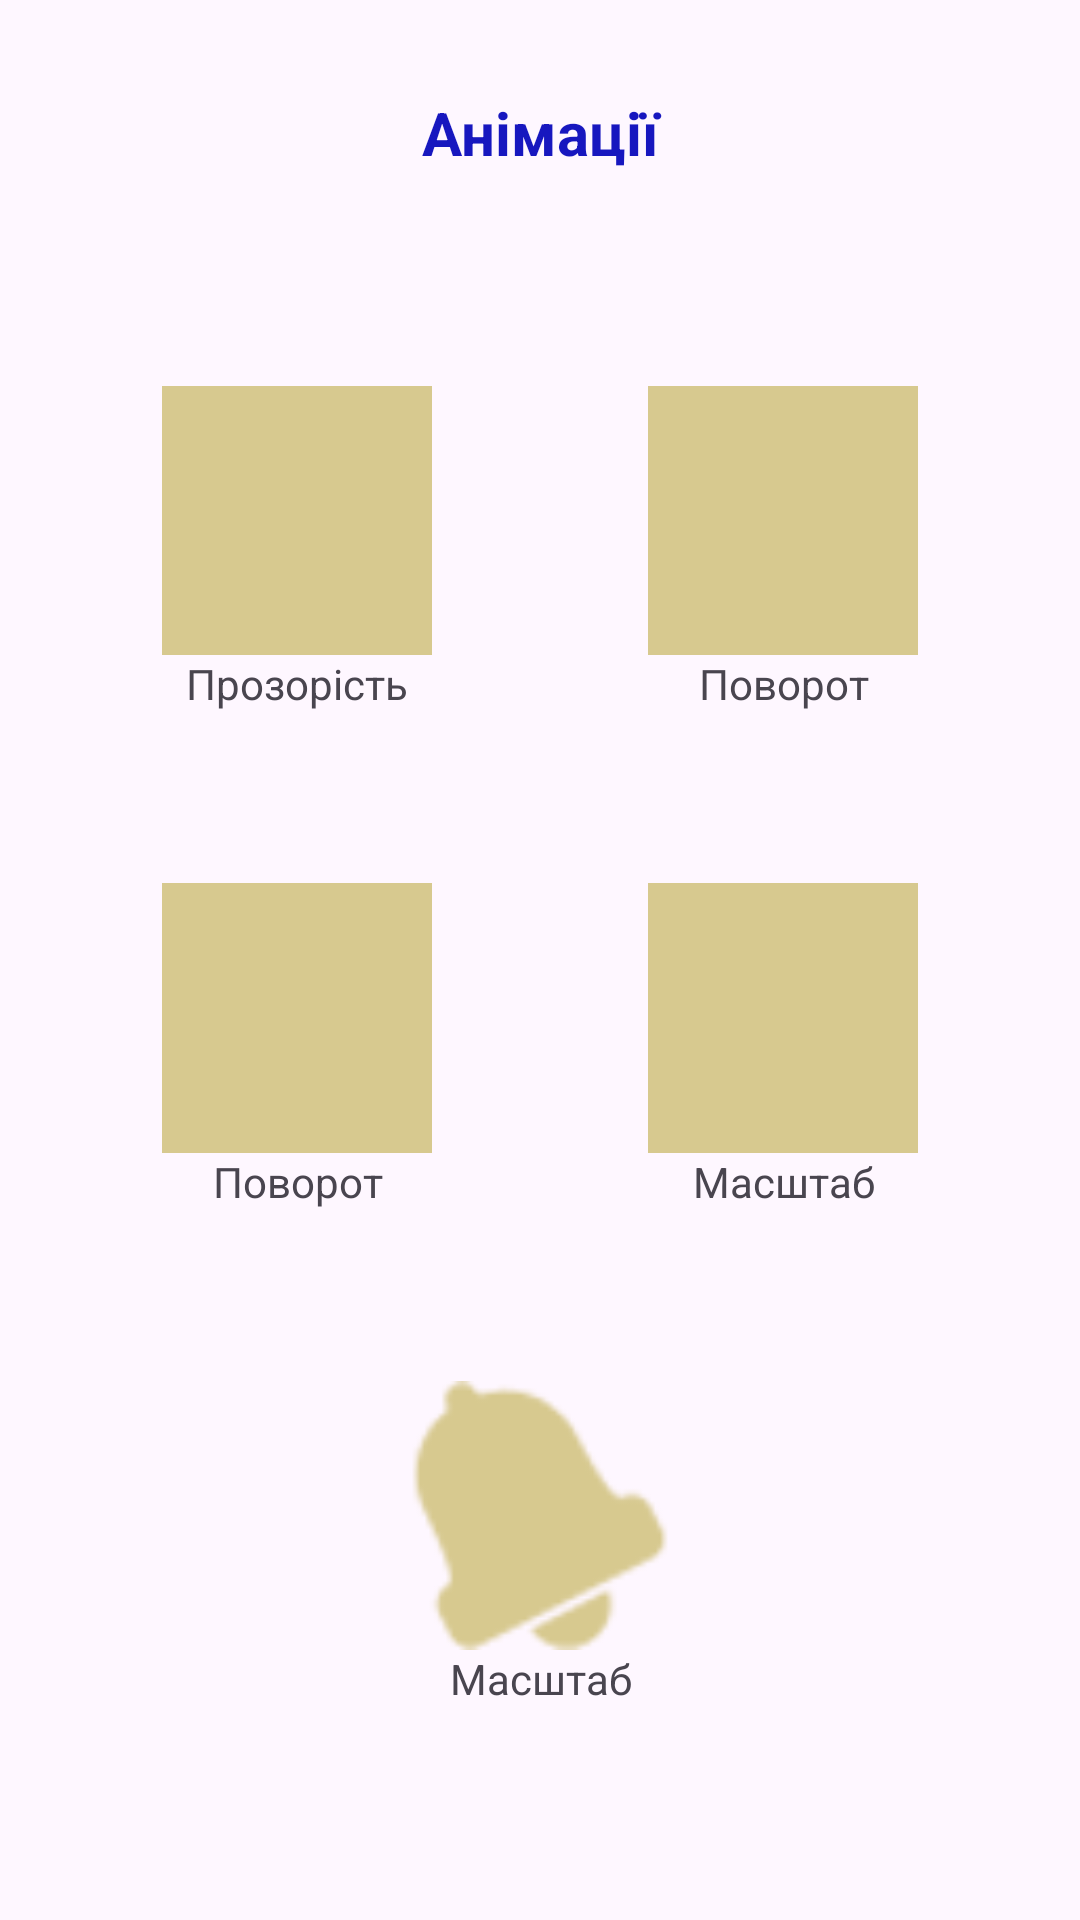

Icon bounding boxes for this 1080px×1920px phone screenshot, format (x1, y1, x2, y2):
popup reminder: (414, 1381, 666, 1650)
